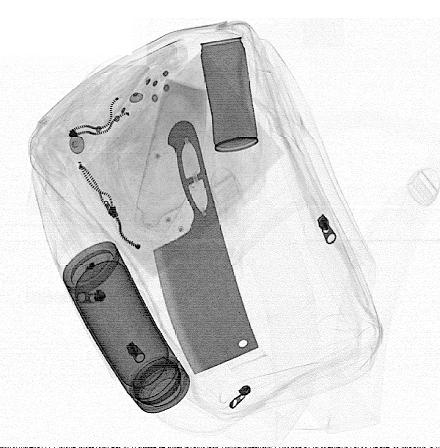Knife: (152, 120, 259, 375)
